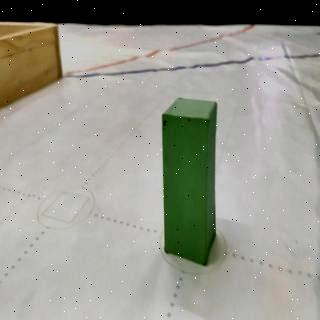greenbox: (160, 95, 218, 268)
